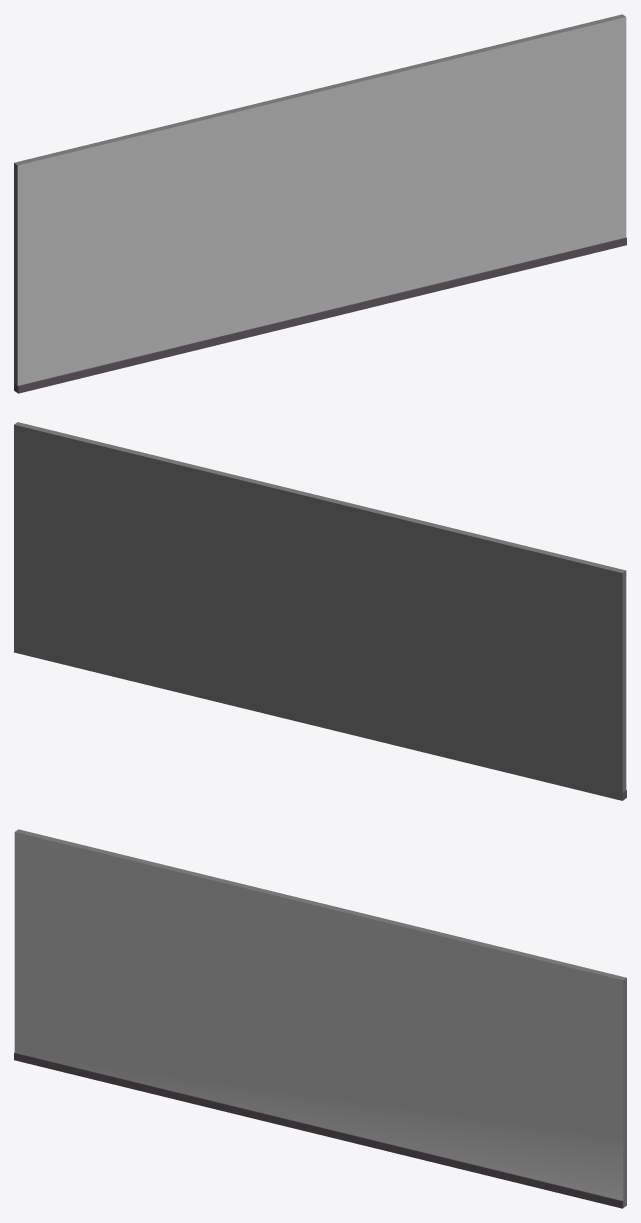
File: Wall 3.fbx
3 renders of one model, top to bottom at view 1: azimuth 30°, elevation 25°; view 2: azimuth 150°, elevation 25°; view 3: azimuth 330°, elevation 25°, orthographic.
Visible parts, largest first — view 1: wall 3; view 2: wall 3; view 3: wall 3.
Part boxes in pixels (x1=…): wall 3: x1=14, y1=14, x2=626, y2=393; wall 3: x1=14, y1=422, x2=626, y2=800; wall 3: x1=14, y1=829, x2=626, y2=1208.
Bounding box in the file's own units: 904 × 323 × 11.45.
